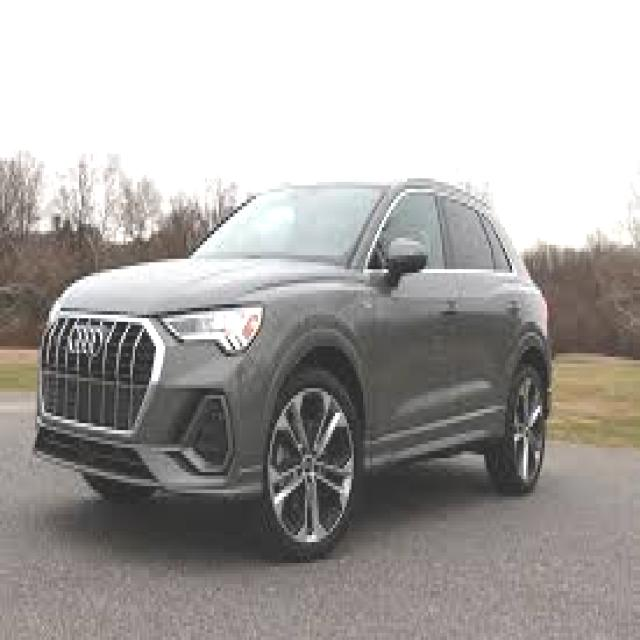SUV: (34, 170, 555, 560)
